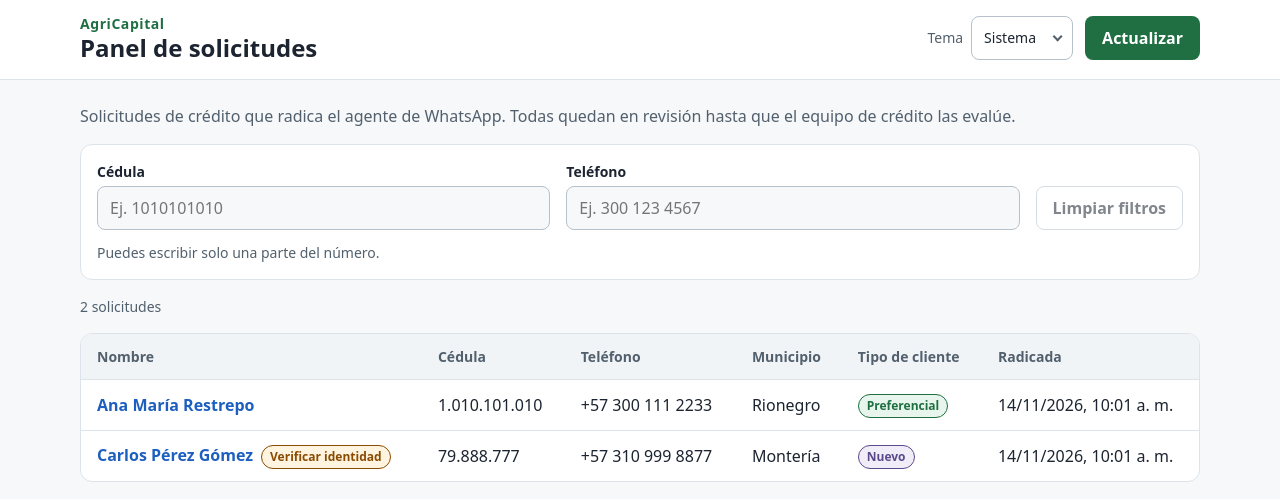
Test: Panel de solicitudes › una respuesta lenta de una búsqueda anterior no pisa la búsqueda actual
This screenshot has width=1280, height=499.
Expected: the text "2 solicitudes" is shown, [80,297,161,316]
Type "7" into the search field labelled "Cédula" at (324, 208), box [97,186,550,230]
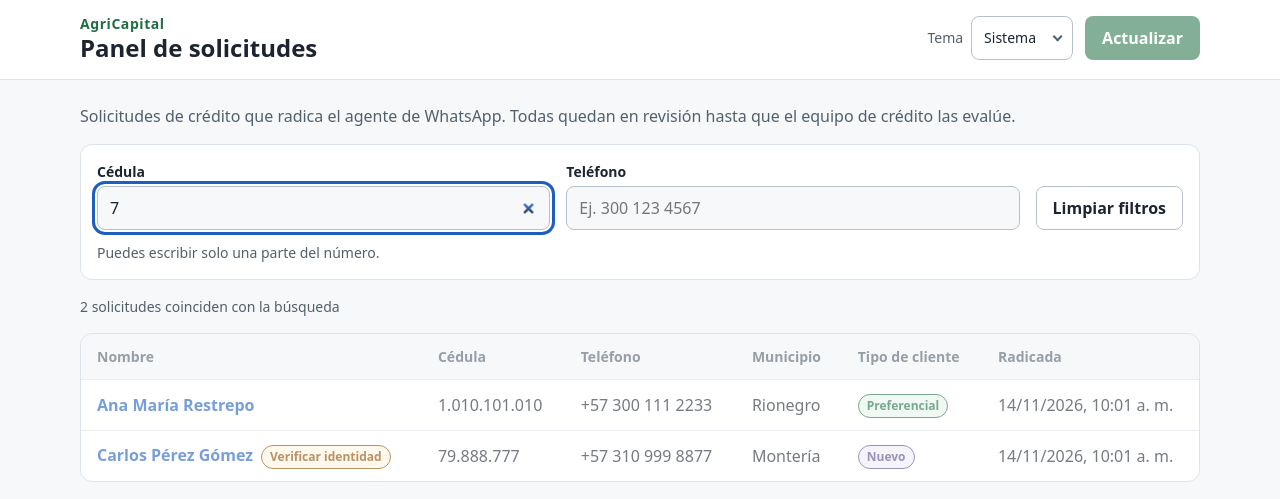
Replace the text in the search field labelled "Cédula" with "1010" at (324, 208), box [97,186,550,230]
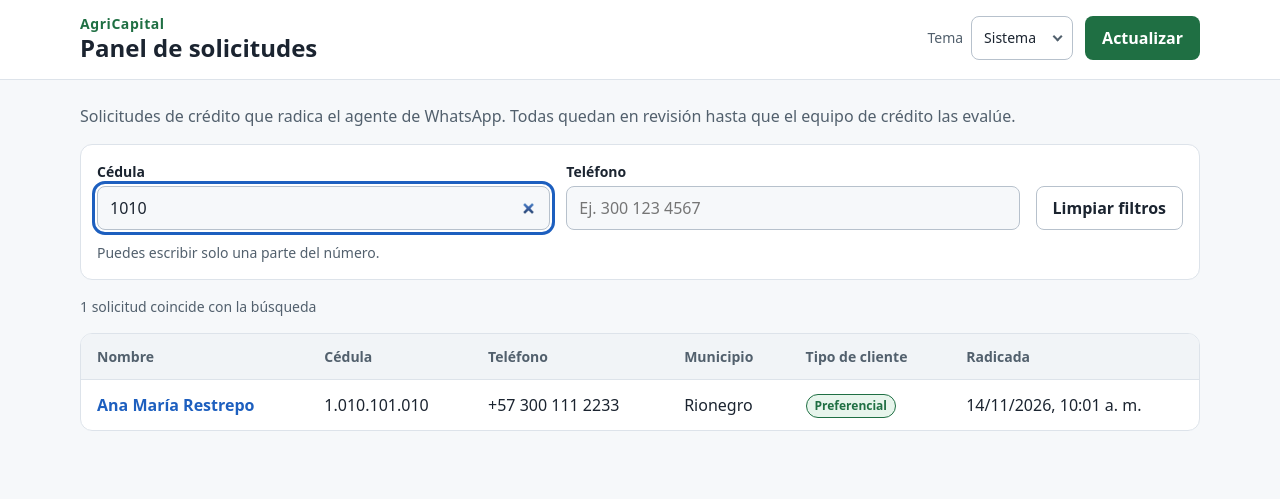
Expected: the button "Ana María Restrepo" is shown, [97,393,254,417]
Result: the text "1 solicitud coincide con la búsqueda" is shown at [80,297,316,316]
Result: the button "Carlos Pérez Gómez" is gone
